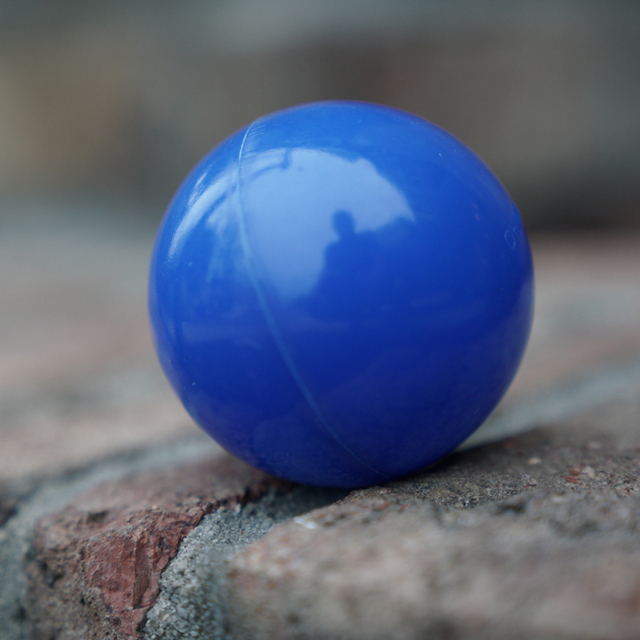Ball: (153, 102, 536, 496)
